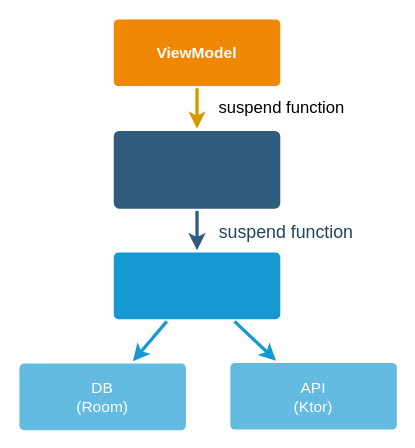
This 415x448 diagram has some shape labels left out. The shapes that lost their labels are listed below. From the top down, each one's centre as x and y in pixels, then its label:
the point at 196,169: UseCase
the point at 196,285: Repository
